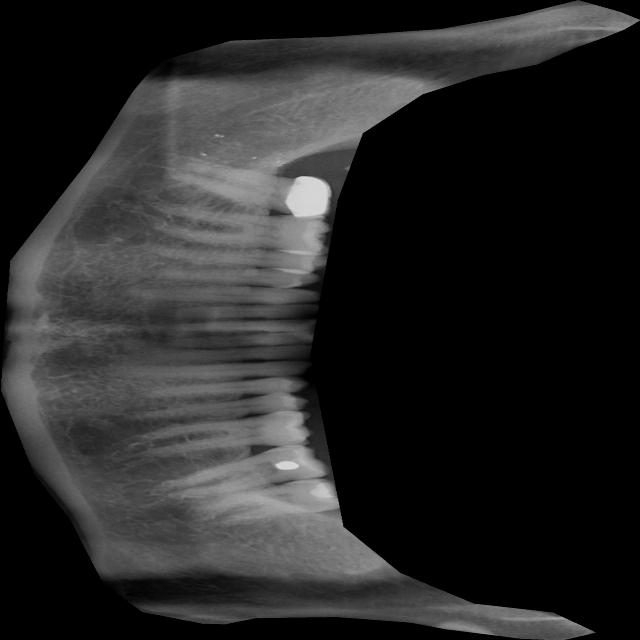mandibula: (0, 0, 640, 640)
